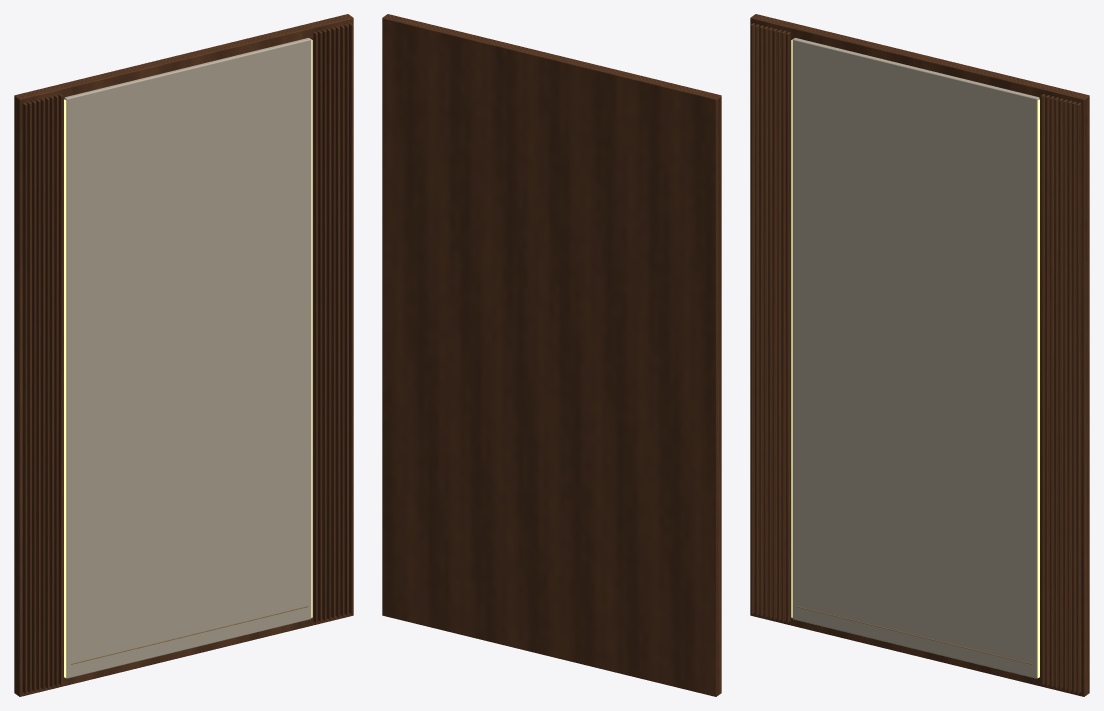
Rendered from astra-pilot--reference-tv-backdrop.glb.
3 views of the same model, side by side, from view 1: azimuth 30°, elevation 25°; view 2: azimuth 150°, elevation 25°; view 3: azimuth 330°, elevation 25° (orthographic).
Visible parts, largest first — view 1: Travertine TV center, TV walnut backing, TV hidden LED; view 2: TV walnut backing; view 3: Travertine TV center, TV walnut backing, TV hidden LED.
Boxes of the visible parts, x1=… form: Travertine TV center: x1=64, y1=38, x2=311, y2=678; TV walnut backing: x1=14, y1=14, x2=353, y2=696; TV hidden LED: x1=64, y1=39, x2=312, y2=677; TV walnut backing: x1=382, y1=14, x2=721, y2=696; Travertine TV center: x1=792, y1=38, x2=1039, y2=678; TV walnut backing: x1=750, y1=14, x2=1089, y2=696; TV hidden LED: x1=791, y1=39, x2=1039, y2=677.
Bounding box in the file's own units: 1.2 × 2.05 × 0.0555.
4 materials, 1 textured.
